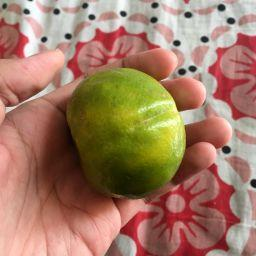Unripe: (68, 64, 186, 199)
